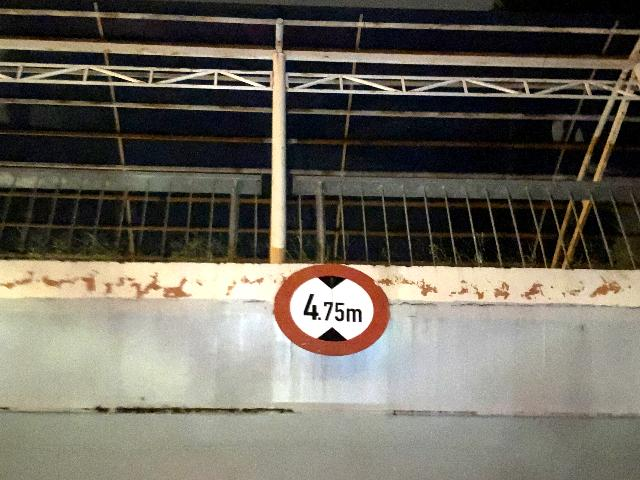han-che-chieu-cao: (273, 263, 390, 356)
